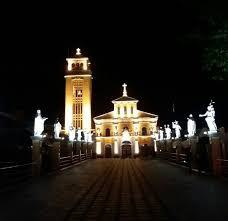manaoag_church_manaoag_pangasinan: (61, 45, 159, 159)
